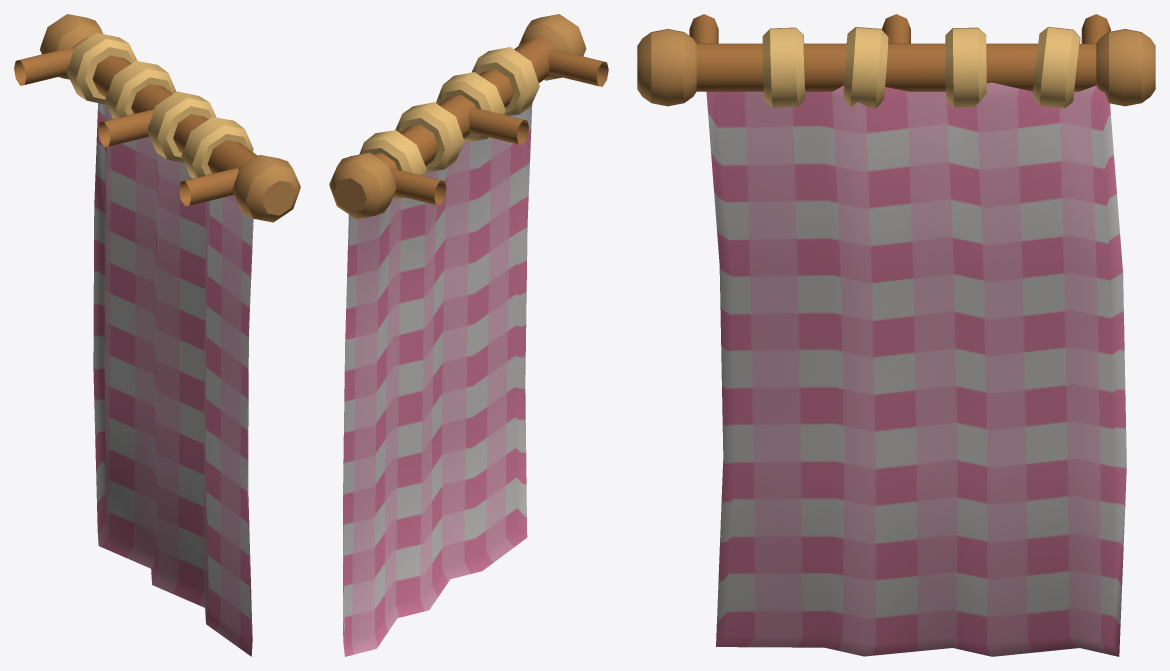
The model's file is Curtains_Short_1_C_A_001.glb.
3 renders of one model, left to right at view 1: azimuth 30°, elevation 25°; view 2: azimuth 150°, elevation 25°; view 3: azimuth 270°, elevation 25°, orthographic. The views are drawn at different scales.
Parts seen in each view (by area): view 1: Curtains_Short_1_C_A.001; view 2: Curtains_Short_1_C_A.001; view 3: Curtains_Short_1_C_A.001.
Part boxes in pixels (x1=…): Curtains_Short_1_C_A.001: x1=14, y1=14, x2=300, y2=656; Curtains_Short_1_C_A.001: x1=329, y1=14, x2=608, y2=656; Curtains_Short_1_C_A.001: x1=637, y1=14, x2=1155, y2=656.
Size of the model in its own units: 0.2275 by 1.16 by 0.8807.
Materials: 2 (2 with a texture image).
